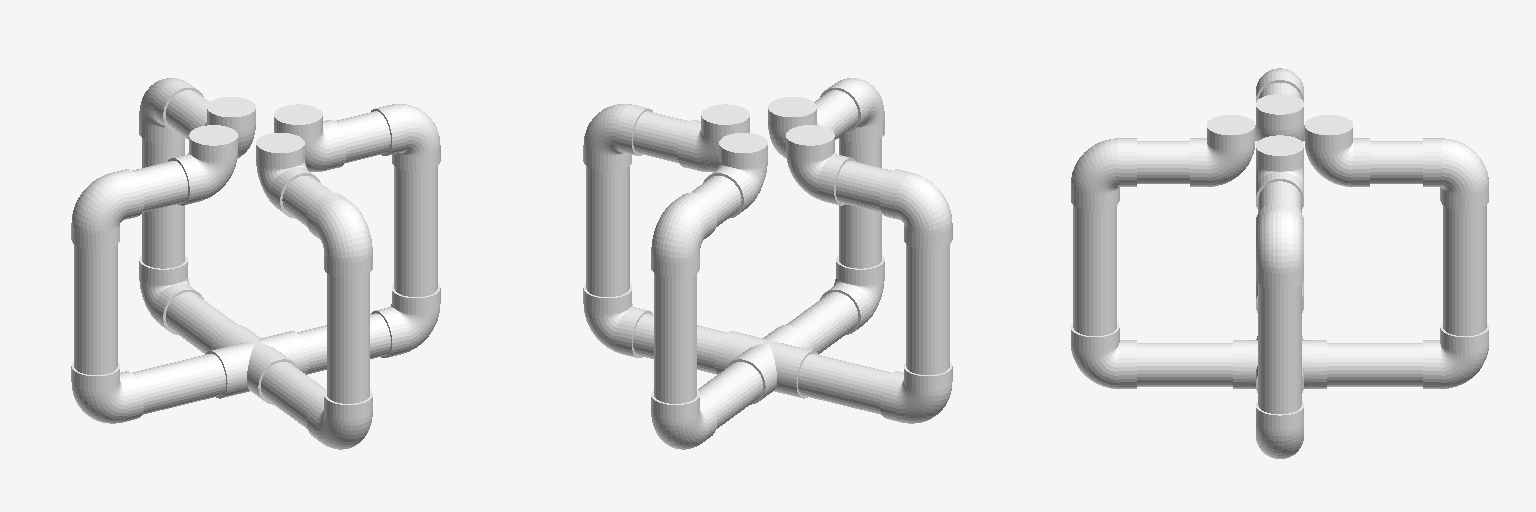
File: Garlic_.obj
3 views of the same model, side by side, from view 1: azimuth 30°, elevation 25°; view 2: azimuth 150°, elevation 25°; view 3: azimuth 270°, elevation 25° (orthographic).
Visible parts, largest first — view 1: Bryła1; view 2: Bryła1; view 3: Bryła1.
Part boxes in pixels (bbox=[...]): Bryła1: bbox=[71, 78, 440, 449]; Bryła1: bbox=[583, 78, 952, 449]; Bryła1: bbox=[1071, 68, 1488, 458].
Size of the model in its own units: 244 by 169 by 244.